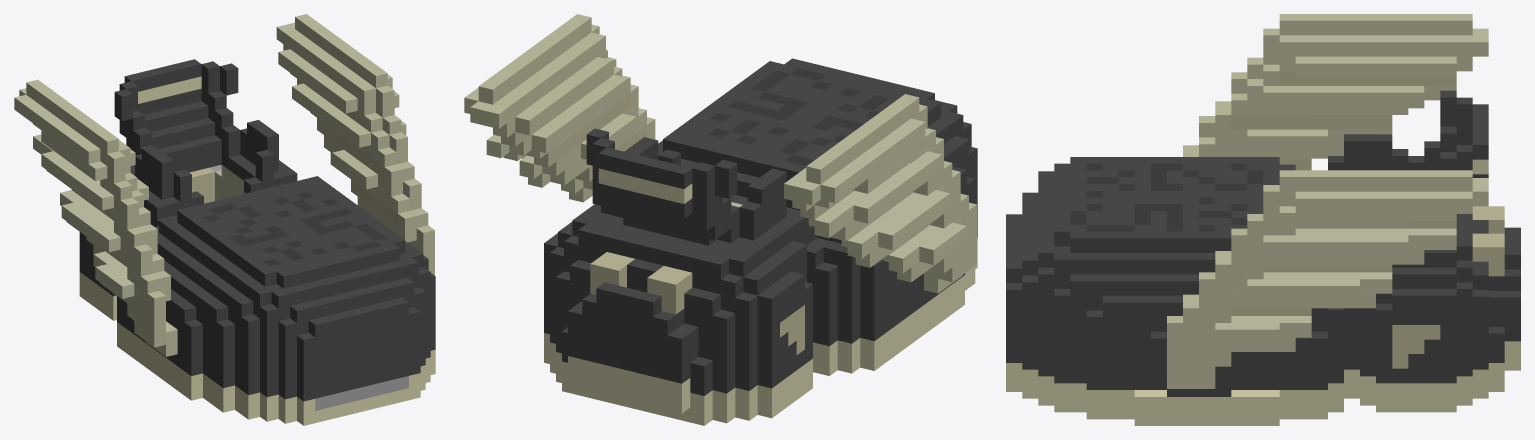
The picture shows the model from 3 angles, left to right: view 1: azimuth 30°, elevation 25°; view 2: azimuth 150°, elevation 25°; view 3: azimuth 270°, elevation 25°; orthographic projection. The views are drawn at different scales.
Size of the model in its own units: 1.3 by 0.9 by 1.6.
